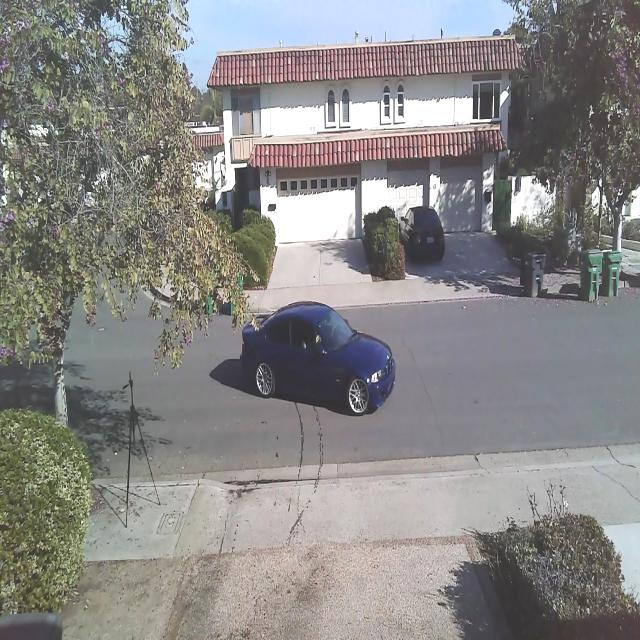Carbeetle: (236, 291, 398, 424)
Civilian: (399, 205, 446, 264)
